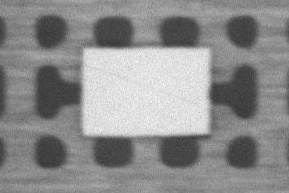DIE_CRACK: (129, 43, 289, 69)
